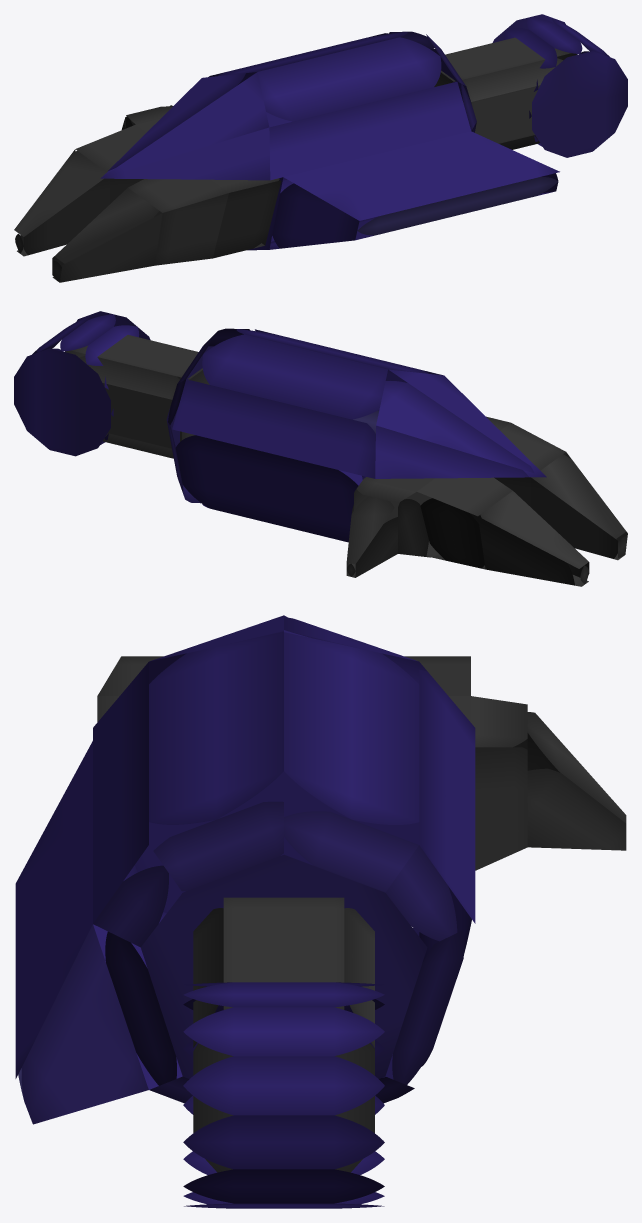
Rendered from TurboLeftArm.obj.
3 renders of one model, top to bottom at view 1: azimuth 30°, elevation 25°; view 2: azimuth 150°, elevation 25°; view 3: azimuth 270°, elevation 25°, orthographic. The views are drawn at different scales.
Parts seen in each view (by area): view 1: cylinder, cuboid, Arm; view 2: cylinder, cuboid, Arm; view 3: cylinder, cuboid, Arm.
Part boxes in pixels (box(x1,y1,x2,y2)): cylinder: box(100, 14, 627, 250); cuboid: box(14, 105, 281, 282); Arm: box(434, 37, 576, 149); cylinder: box(14, 311, 546, 542); cuboid: box(346, 416, 627, 586); Arm: box(65, 335, 209, 458); cylinder: box(15, 615, 475, 1208); cuboid: box(97, 656, 626, 870); Arm: box(193, 897, 374, 1172).
Size of the model in its own units: 0.8031 by 0.2368 by 0.378.
Materials: 1 (1 with a texture image).
